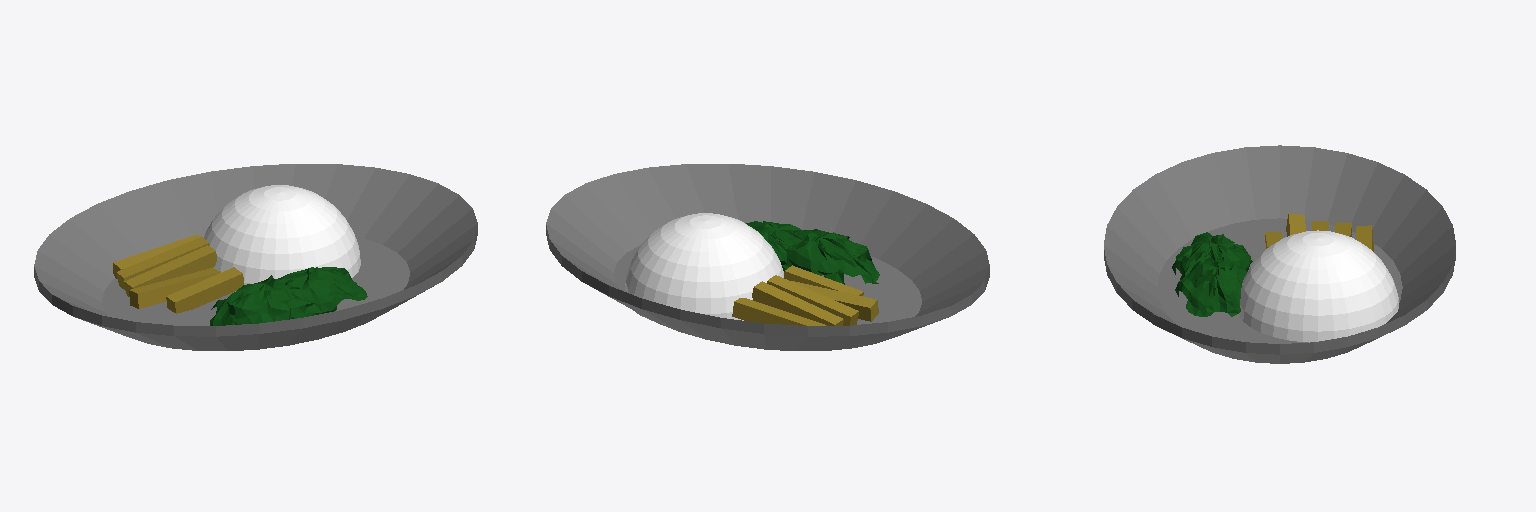
File: rice2_meat2_veg2.obj
3 renders of one model, left to right at view 1: azimuth 30°, elevation 25°; view 2: azimuth 150°, elevation 25°; view 3: azimuth 270°, elevation 25°, orthographic.
Visible parts, largest first — view 1: Cylinder, Sphere, Sphere.002, Sphere.001, Cube.004_Cube.005, Cube.001_Cube.002, Cube.002_Cube.003, Cube_Cube.001, Cube.003_Cube.004; view 2: Cylinder, Sphere, Sphere.002, Cube_Cube.001, Cube.003_Cube.004, Cube.001_Cube.002, Sphere.001, Cube.002_Cube.003, Cube.004_Cube.005; view 3: Cylinder, Sphere, Sphere.001, Sphere.002.
Boxes of the visible parts, x1=… form: Cylinder: x1=34, y1=164, x2=477, y2=350; Sphere: x1=204, y1=185, x2=360, y2=291; Sphere.002: x1=210, y1=275, x2=314, y2=325; Sphere.001: x1=278, y1=267, x2=367, y2=318; Cube.004_Cube.005: x1=166, y1=267, x2=243, y2=313; Cube.001_Cube.002: x1=124, y1=245, x2=216, y2=296; Cube.002_Cube.003: x1=129, y1=268, x2=220, y2=308; Cube_Cube.001: x1=116, y1=237, x2=209, y2=290; Cube.003_Cube.004: x1=113, y1=234, x2=199, y2=278; Cylinder: x1=546, y1=164, x2=989, y2=350; Sphere: x1=625, y1=213, x2=783, y2=321; Sphere.002: x1=783, y1=229, x2=879, y2=284; Cube_Cube.001: x1=752, y1=281, x2=843, y2=325; Cube.003_Cube.004: x1=732, y1=298, x2=826, y2=325; Cube.001_Cube.002: x1=767, y1=275, x2=858, y2=325; Sphere.001: x1=746, y1=221, x2=803, y2=271; Cube.002_Cube.003: x1=791, y1=281, x2=878, y2=321; Cube.004_Cube.005: x1=784, y1=265, x2=863, y2=295; Cylinder: x1=1104, y1=145, x2=1455, y2=363; Sphere: x1=1238, y1=230, x2=1398, y2=342; Sphere.001: x1=1175, y1=257, x2=1246, y2=316; Sphere.002: x1=1172, y1=232, x2=1252, y2=276.
Size of the model in its own units: 5.75 by 1.05 by 4.31.